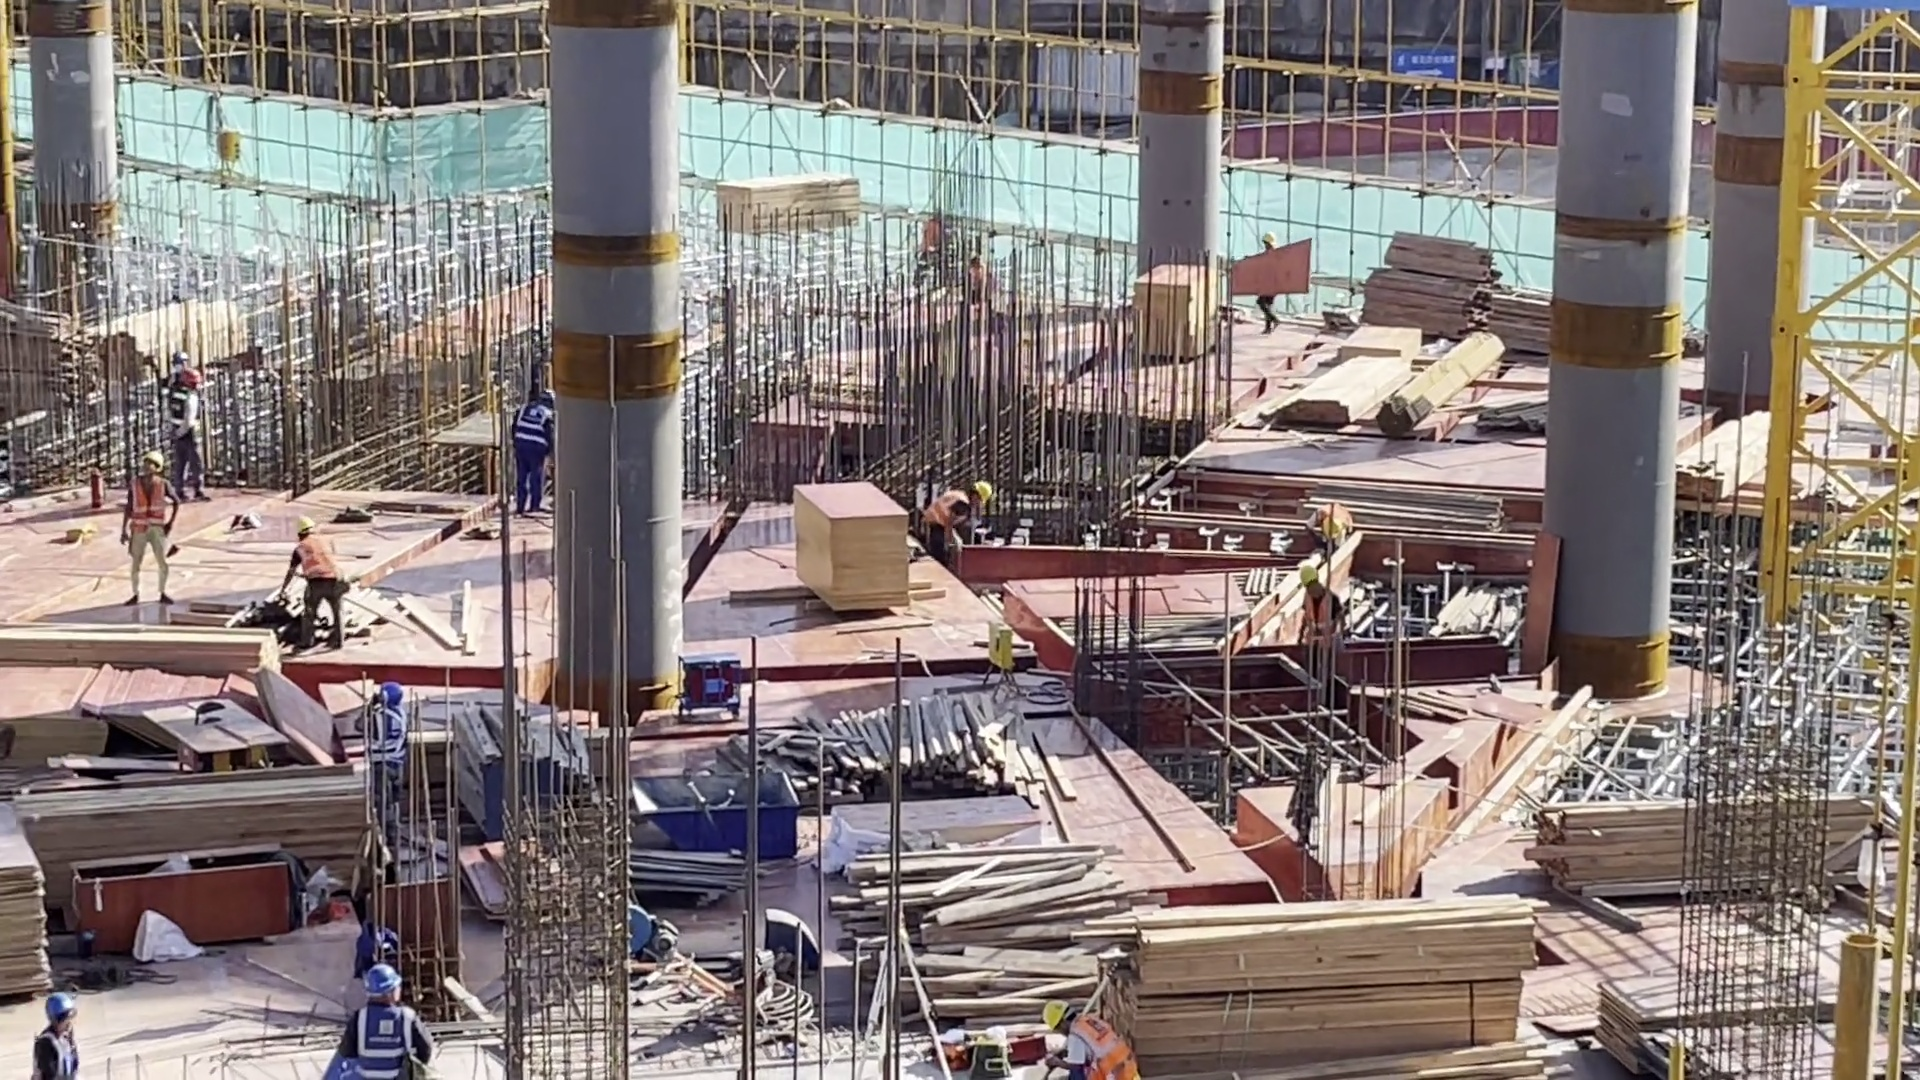board: (1604, 953, 1825, 1080), (781, 472, 919, 617), (1, 824, 54, 1002), (1136, 257, 1228, 356)
ebox: (984, 619, 1019, 684), (216, 124, 239, 164)
fence: (1249, 92, 1534, 164)
hopper: (638, 766, 801, 847)
person: (339, 968, 426, 1080), (283, 516, 344, 653), (1044, 998, 1142, 1080), (368, 686, 431, 806), (931, 478, 998, 573), (136, 453, 174, 593), (1284, 558, 1353, 636), (39, 990, 88, 1080), (513, 388, 551, 501), (1251, 230, 1288, 341), (958, 246, 999, 331), (1303, 491, 1364, 545), (176, 373, 206, 480), (916, 208, 949, 273), (171, 353, 188, 376)
wood: (919, 841, 1184, 1076), (1388, 224, 1639, 426), (1553, 806, 1916, 942), (1206, 921, 1564, 1036), (766, 702, 1089, 809), (71, 786, 379, 897), (1278, 316, 1424, 421), (698, 156, 853, 231), (1663, 437, 1786, 507)
